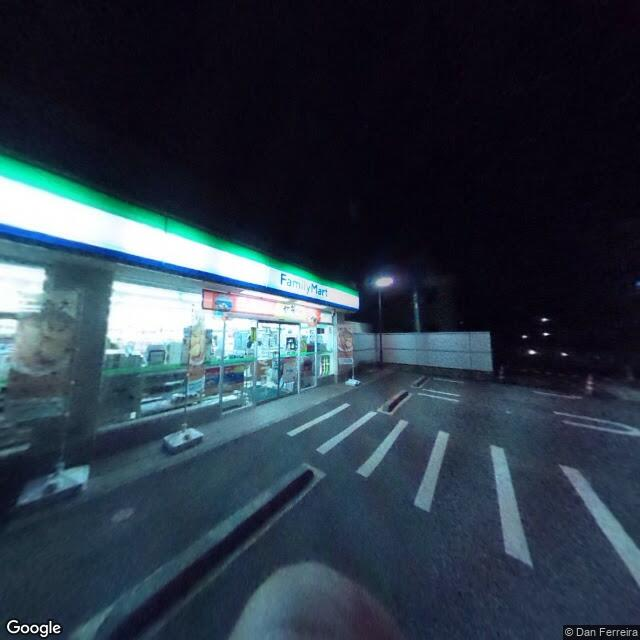family_mart: (1, 152, 361, 313)
